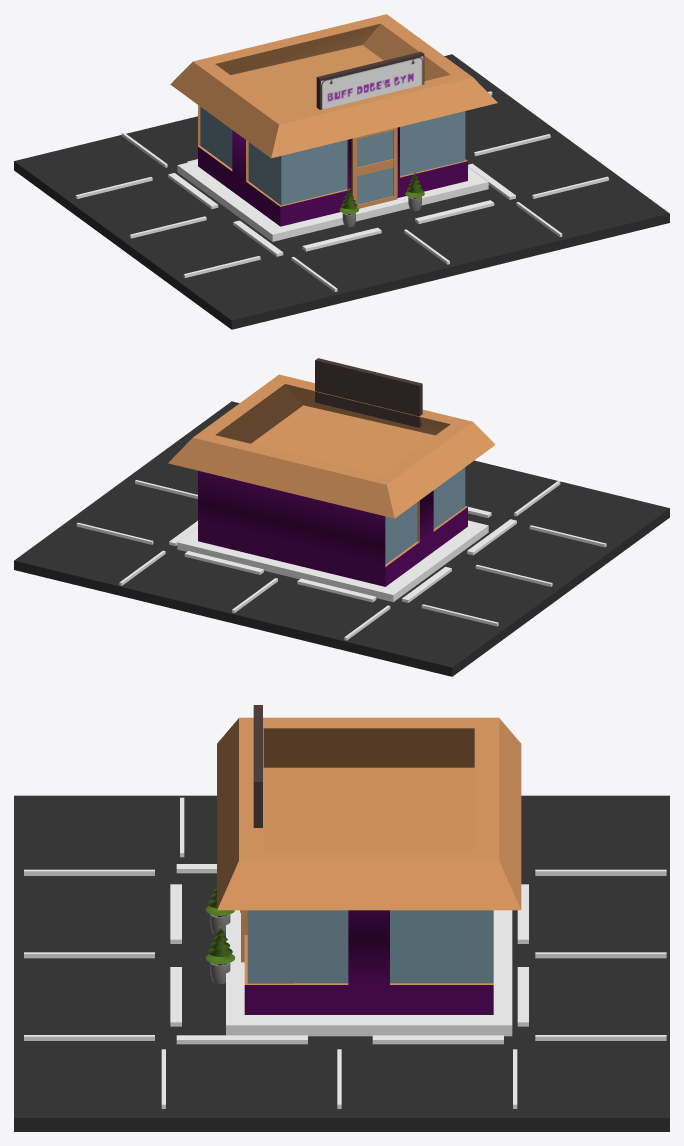
File: buff-doge-gym.glb
3 views of the same model, one above another, from view 1: azimuth 30°, elevation 25°; view 2: azimuth 150°, elevation 25°; view 3: azimuth 270°, elevation 25° (orthographic). The views are drawn at different scales.
Visible parts, largest first — view 1: Box001, BuffDogeSign, Object002, Object003, Object004, Box002; view 2: Box001, Box002, Object002, Object004, Object003; view 3: Box001, Object002, Object004, Object003, Box002.
Boxes of the visible parts, x1=… form: Box001: x1=14, y1=23, x2=669, y2=329; BuffDogeSign: x1=321, y1=56, x2=423, y2=109; Object002: x1=193, y1=14, x2=386, y2=124; Object003: x1=279, y1=75, x2=472, y2=124; Object004: x1=381, y1=14, x2=472, y2=77; Box002: x1=316, y1=51, x2=424, y2=109; Box001: x1=14, y1=384, x2=669, y2=676; Box002: x1=315, y1=358, x2=422, y2=427; Object002: x1=194, y1=422, x2=472, y2=484; Object004: x1=193, y1=375, x2=284, y2=437; Object003: x1=279, y1=374, x2=472, y2=424; Box001: x1=14, y1=718, x2=669, y2=1131; Object002: x1=239, y1=717, x2=499, y2=859; Object004: x1=240, y1=850, x2=498, y2=860; Object003: x1=239, y1=718, x2=263, y2=860; Box002: x1=253, y1=705, x2=262, y2=827.
Bounding box in the file's own units: 194 × 63.86 × 167.
13 materials, 1 textured.
